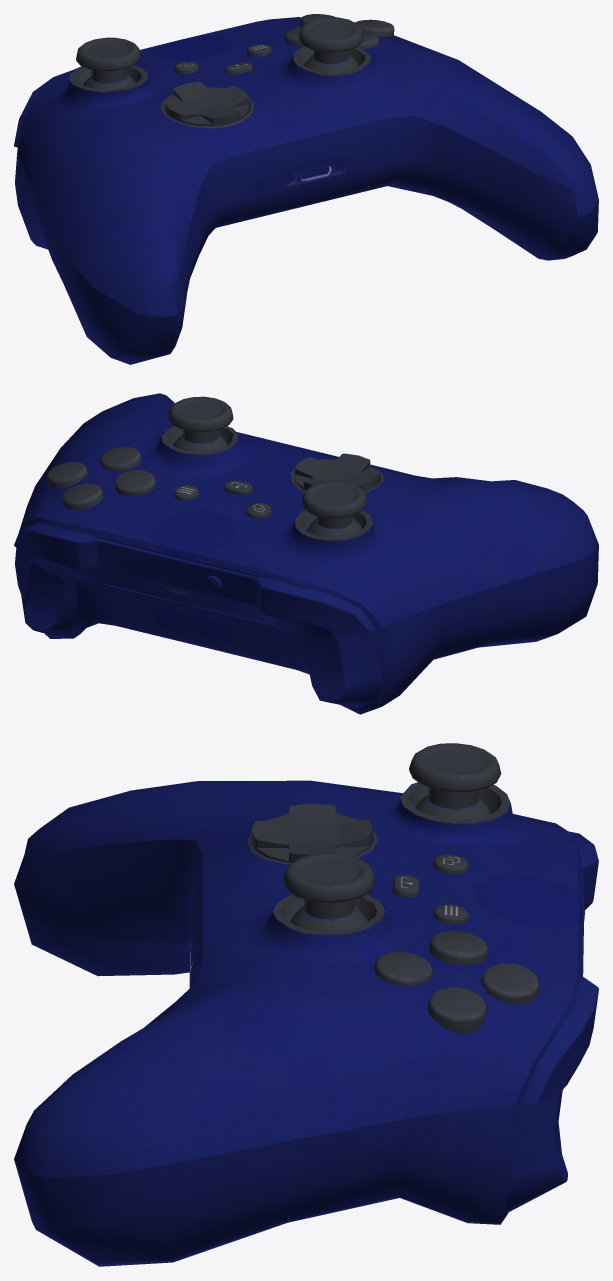
The model's file is gamepad.glb.
The picture shows the model from 3 angles, top to bottom: view 1: azimuth 30°, elevation 25°; view 2: azimuth 150°, elevation 25°; view 3: azimuth 270°, elevation 25°; orthographic projection. The views are drawn at different scales.
Visible parts, largest first — view 1: gamepad; view 2: gamepad; view 3: gamepad.
Part boxes in pixels (left/top/right/bottom): gamepad: left=14, top=14, right=598, bottom=364; gamepad: left=14, top=393, right=598, bottom=714; gamepad: left=14, top=743, right=598, bottom=1266.
Size of the model in its own units: 2.15 by 0.8555 by 1.55.
Materials: 1 (1 with a texture image).
